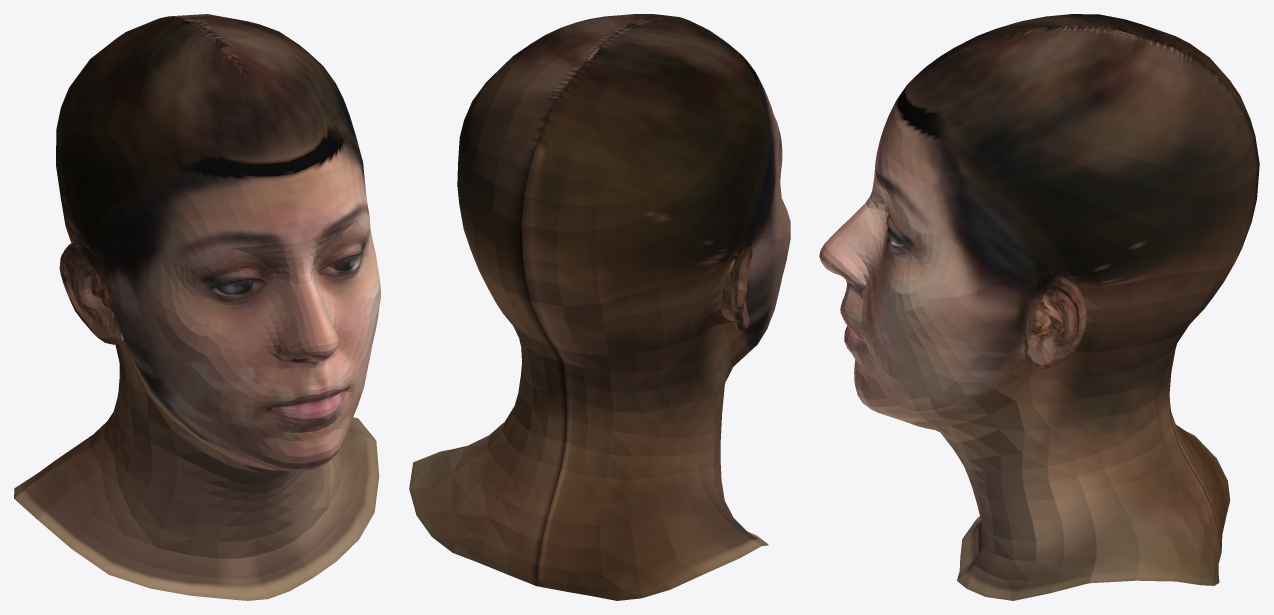
Rendered from face_video_frame0085.obj.
3 renders of one model, left to right at view 1: azimuth 30°, elevation 25°; view 2: azimuth 150°, elevation 25°; view 3: azimuth 270°, elevation 25°, orthographic. The views are drawn at different scales.
Size of the model in its own units: 0.2101 by 0.315 by 0.2314.
1 material, 1 textured.
